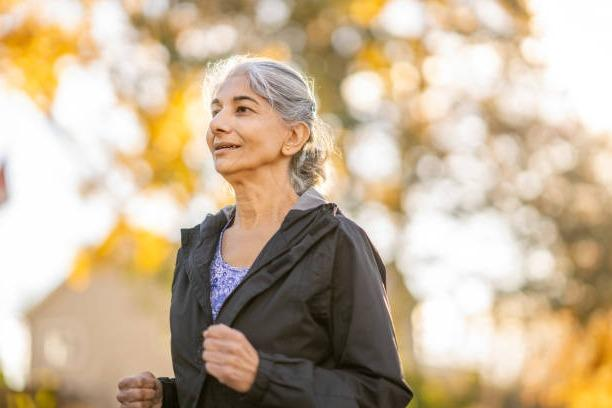Human: (132, 59, 416, 408)
